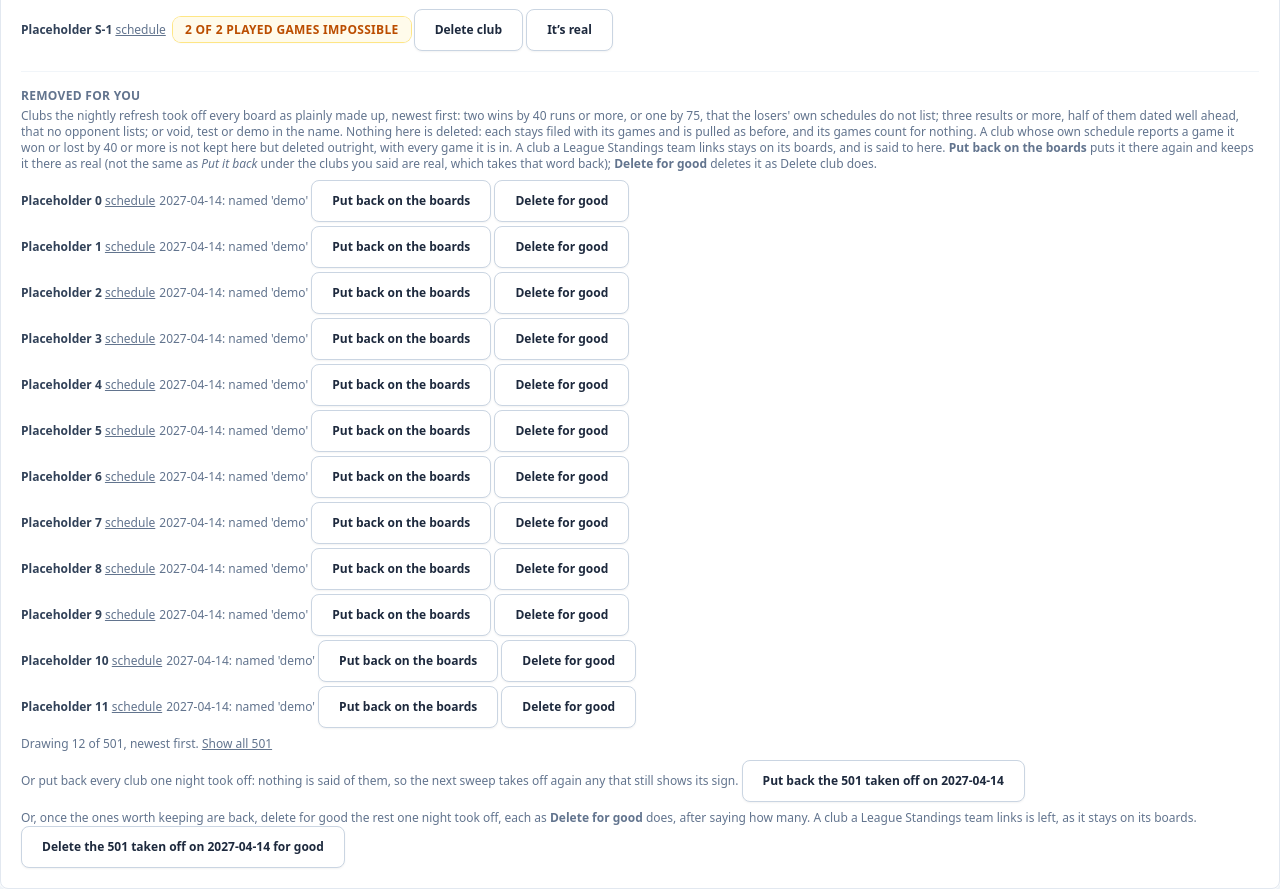
Test: Pool health's buttons, sent as edits › Removed for you › keeps listed the clubs of an edit that failed, where a long list went as several
The width and height of the screenshot is (1280, 889).
(page scrolled)
Click the button "Delete the 501 taken off on 2027-04-14 for good" at {"x": 183, "y": 847}, box [21,826,345,868]
(page scrolled)
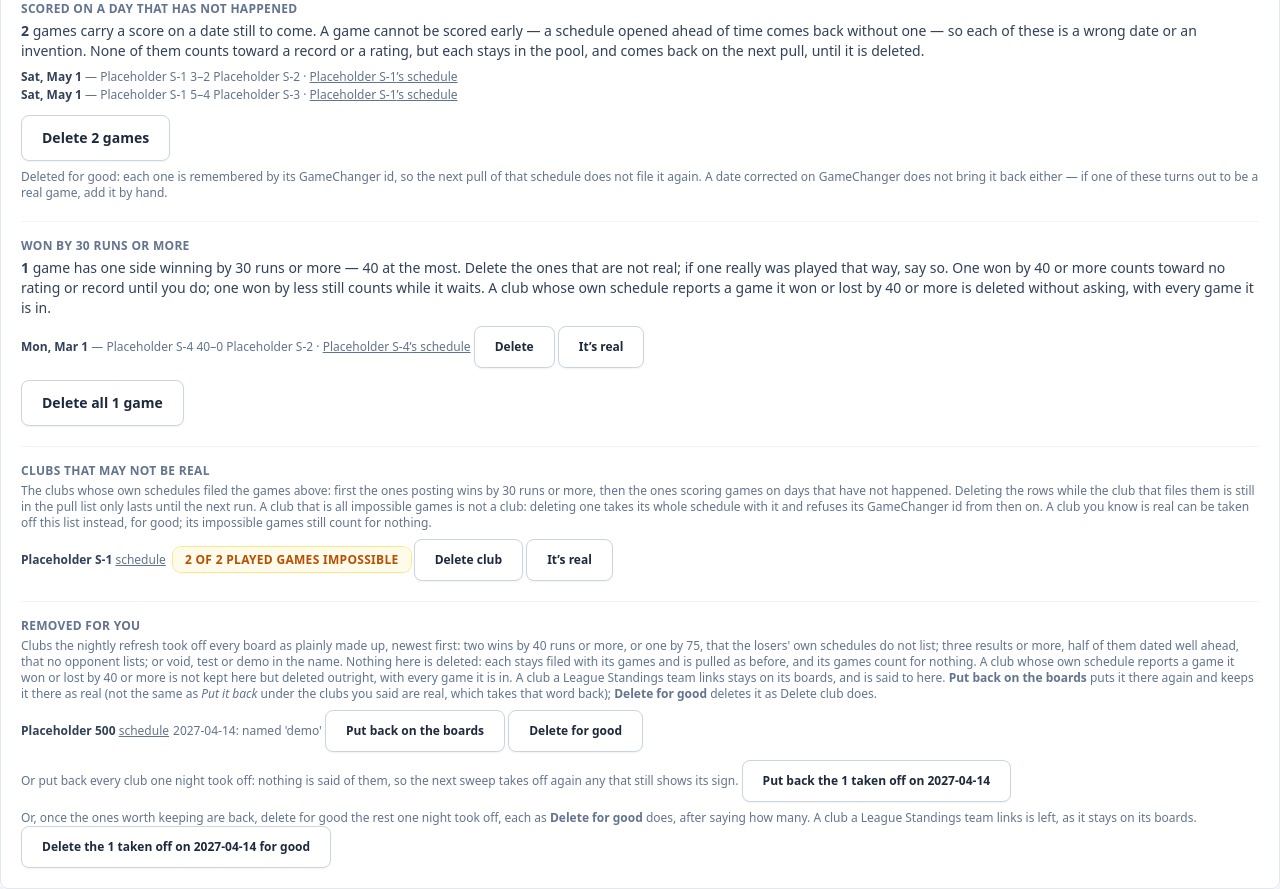
Check: the button "Delete the 1 taken off on 2027-04-14 for good" is shown, box [21,826,331,868]
Check: the text "Placeholder 500" is shown, box [21,722,116,739]
Check: the text "Placeholder 0" is gone
